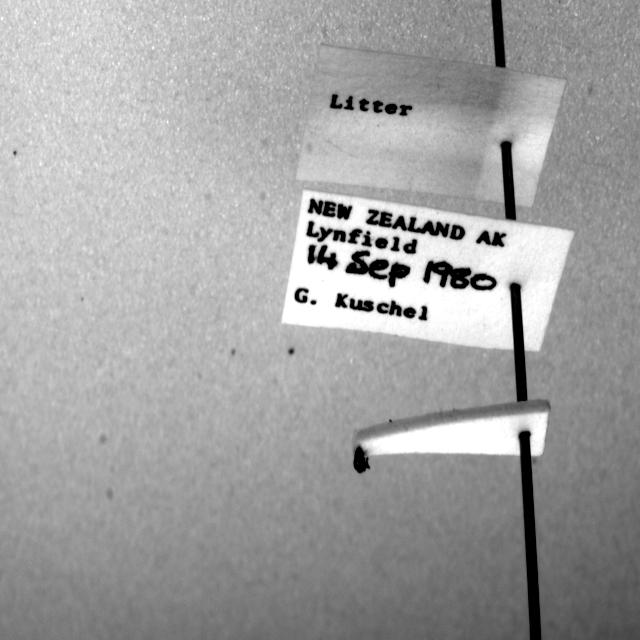mixed_label: (282, 189, 574, 351)
typed_label: (296, 45, 565, 206)
